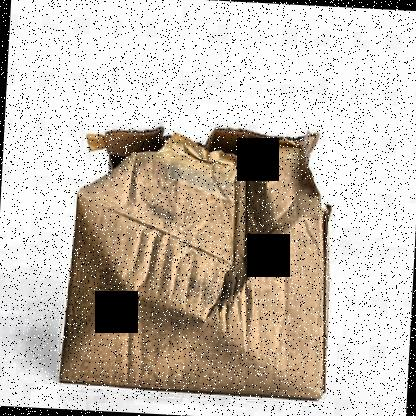defect parcel: (30, 81, 373, 338)
